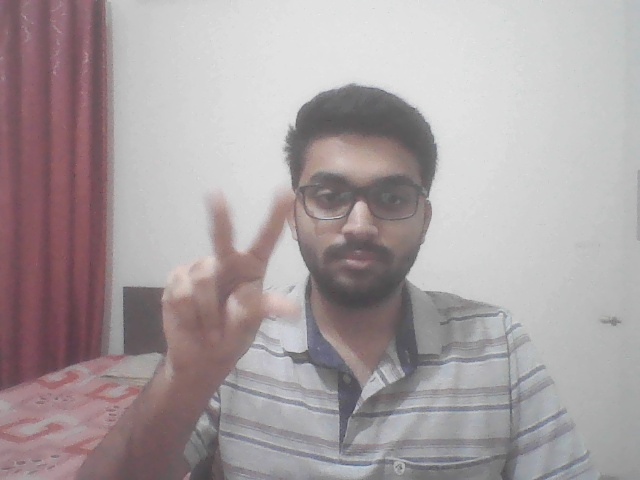no: (120, 168, 312, 393)
